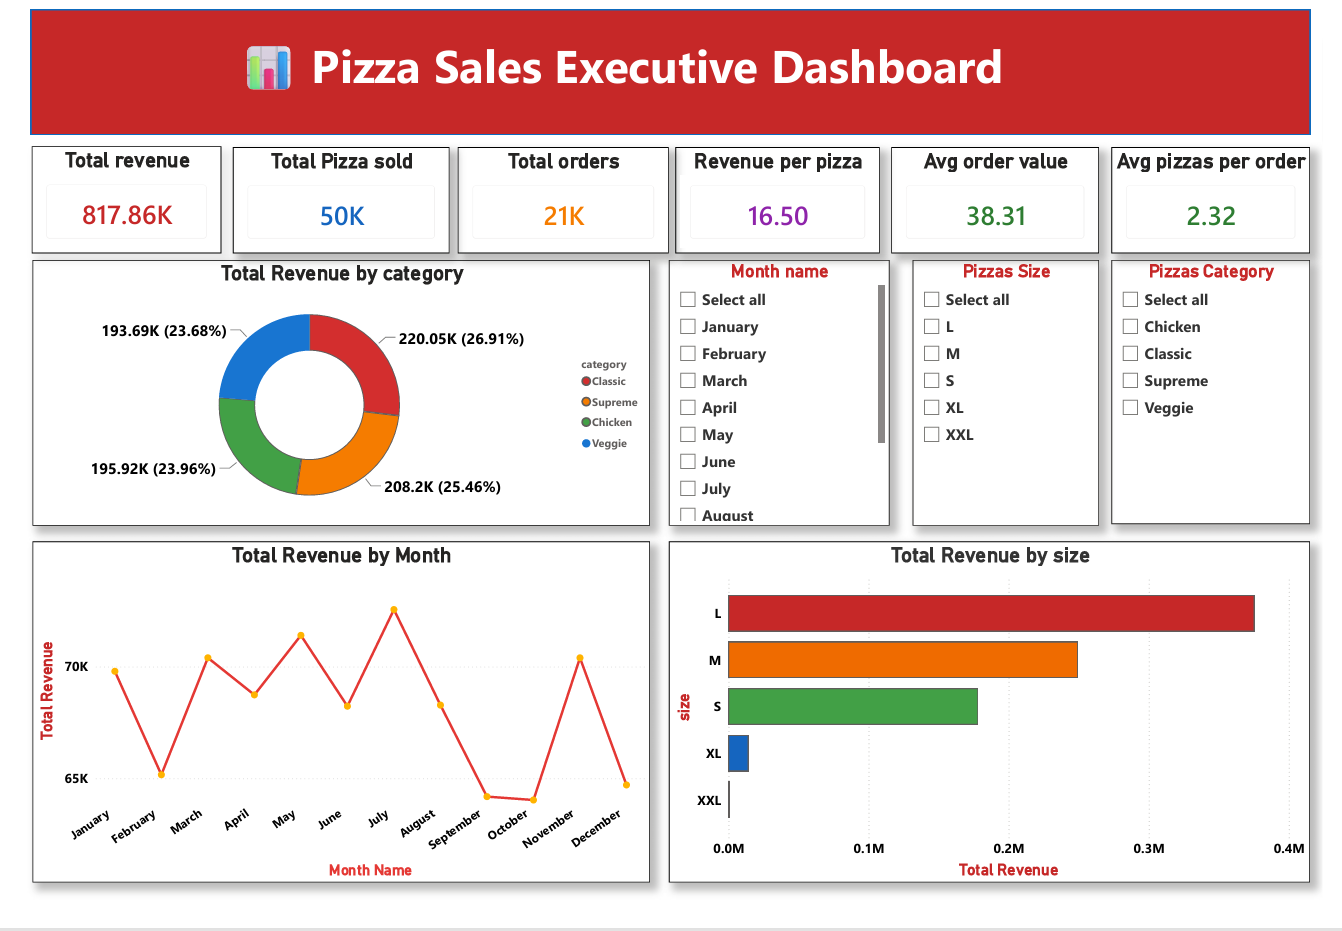

Layout of this report page (visuals, bound fields, positions):
{"tool":"powerbi","page":{"name":"Executive Dashboard","canvas":[1600,1100],"ordinal":0},"visuals":[{"type":"cardVisual","title":"Total revenue","fields":{"Data":["order_details.Total Revenue"]},"box":[22,167,232,131],"z":0},{"type":"cardVisual","title":"Total orders","fields":{"Data":["orders.Total orders"]},"box":[543,167.7,257.9,130],"z":1000},{"type":"cardVisual","title":"Avg order value","fields":{"Data":["pizzas.average order value"]},"box":[1073.5,167.7,253.7,130],"z":2000},{"type":"cardVisual","title":"Avg pizzas per order","fields":{"Data":["pizzas.Average pizzas per order"]},"box":[1341.8,167.7,243.2,130],"z":3000},{"type":"cardVisual","title":"Revenue per pizza","fields":{"Data":["pizzas.Revenue per pizza"]},"box":[809.3,167.7,249.5,130],"z":4000},{"type":"cardVisual","title":"Total Pizza sold","fields":{"Data":["pizzas.Total pizzas sold"]},"box":[268.4,167.7,264.2,130],"z":5000},{"type":"slicer","title":"Month name","fields":{"Values":["orders.Month Name"]},"box":[800.9,306.1,270.5,325],"z":6000},{"type":"lineChart","title":"Total Revenue by Month","fields":{"Y":["order_details.Total Revenue"],"Category":["orders.Month Name"]},"box":[23.1,649.9,754.8,417.2],"z":7000},{"type":"donutChart","fields":{"Category":["pizza_types.category"],"Y":["order_details.Total Revenue"]},"box":[22.8,306.3,755.5,325],"z":8000},{"type":"barChart","fields":{"Y":["order_details.Total Revenue"],"Category":["pizzas.size"]},"box":[800.9,649.9,784.1,417.2],"z":9000},{"type":"shape","box":[21,0,1564.1,153.1],"z":10000},{"type":"textbox","box":[128.3,24.8,1229.5,99.4],"z":11000},{"type":"slicer","title":"Pizzas Category","fields":{"Values":["pizza_types.category"]},"box":[1341.8,306.1,243.2,322.9],"z":12000},{"type":"slicer","title":"Pizzas Size","fields":{"Values":["pizzas.size"]},"box":[1098.6,306.1,228.5,325],"z":13000}]}

Visuals, with their boxes in screenshot pixels (x1, y1, x2, y2), scaled from the page's 1600x1100 canvas onto the 1342x931 screenshot:
"Total revenue" cardVisual: Rect(18, 141, 213, 252)
"Total orders" cardVisual: Rect(455, 142, 672, 252)
"Avg order value" cardVisual: Rect(900, 142, 1113, 252)
"Avg pizzas per order" cardVisual: Rect(1125, 142, 1329, 252)
"Revenue per pizza" cardVisual: Rect(679, 142, 888, 252)
"Total Pizza sold" cardVisual: Rect(225, 142, 447, 252)
"Month name" slicer: Rect(672, 259, 899, 534)
"Total Revenue by Month" lineChart: Rect(19, 550, 652, 903)
donutChart - pizza_types.category x order_details.Total Revenue: Rect(19, 259, 653, 534)
barChart - order_details.Total Revenue x pizzas.size: Rect(672, 550, 1329, 903)
shape: Rect(18, 0, 1330, 130)
textbox: Rect(108, 21, 1139, 105)
"Pizzas Category" slicer: Rect(1125, 259, 1329, 532)
"Pizzas Size" slicer: Rect(921, 259, 1113, 534)
